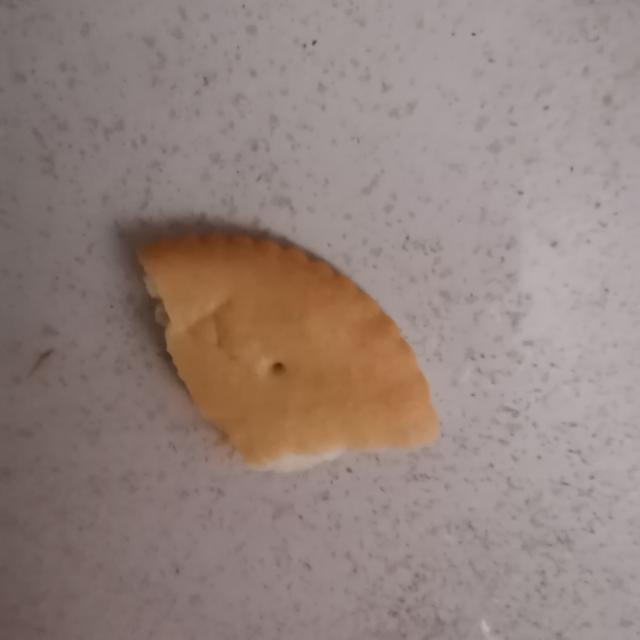Broken: (135, 228, 441, 473)
